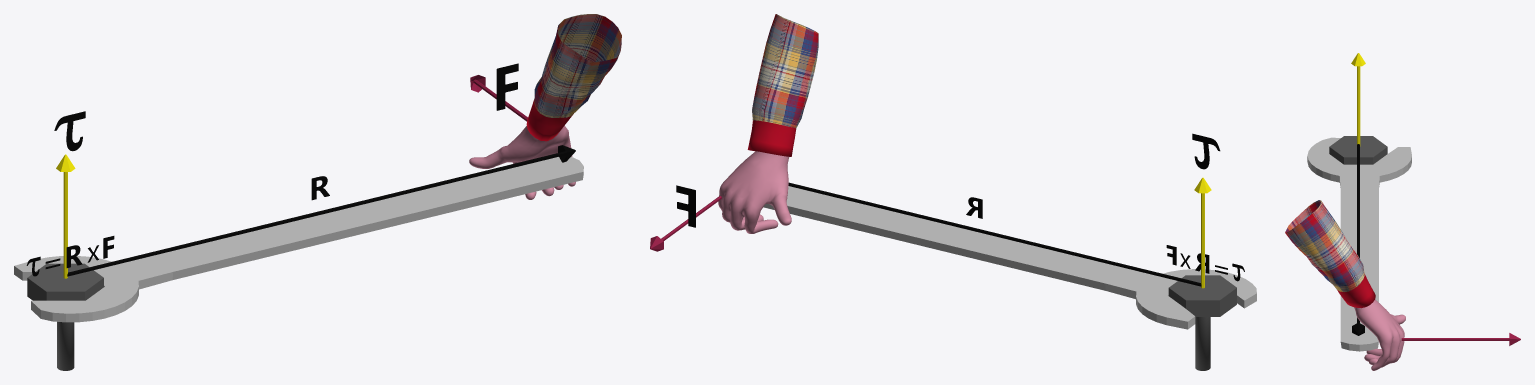
The model's file is wrench.glb.
The picture shows the model from 3 angles, left to right: view 1: azimuth 30°, elevation 25°; view 2: azimuth 150°, elevation 25°; view 3: azimuth 270°, elevation 25°; orthographic projection. The views are drawn at different scales.
Parts seen in each view (by area): view 1: wrench, SweaterR, bolt, vectorR, HandR, vectorT, torque, labelF, labelT; view 2: wrench, SweaterR, HandR, bolt, vectorR, vectorT, torque; view 3: wrench, SweaterR, HandR, bolt, vectorR, vectorT, vectorF.
Boxes of the visible parts, x1,y1,x2,y2 form: wrench: [14, 156, 583, 322]; SweaterR: [526, 14, 621, 141]; bolt: [27, 263, 103, 370]; vectorR: [67, 145, 575, 276]; HandR: [469, 125, 575, 199]; vectorT: [56, 154, 75, 278]; torque: [26, 236, 114, 276]; labelF: [496, 63, 518, 110]; labelT: [54, 111, 85, 151]; wrench: [763, 186, 1256, 329]; SweaterR: [747, 14, 818, 156]; HandR: [718, 151, 791, 233]; bolt: [1168, 275, 1236, 370]; vectorR: [788, 182, 1201, 286]; vectorT: [1194, 177, 1211, 288]; torque: [1166, 245, 1244, 281]; wrench: [1307, 137, 1411, 351]; SweaterR: [1285, 200, 1375, 308]; HandR: [1354, 299, 1405, 370]; bolt: [1329, 136, 1387, 164]; vectorR: [1352, 144, 1364, 335]; vectorT: [1351, 53, 1365, 146]; vectorF: [1401, 333, 1520, 345].
Size of the model in its own units: 8.49 by 3.64 by 3.99.
2 materials, 2 textured.
